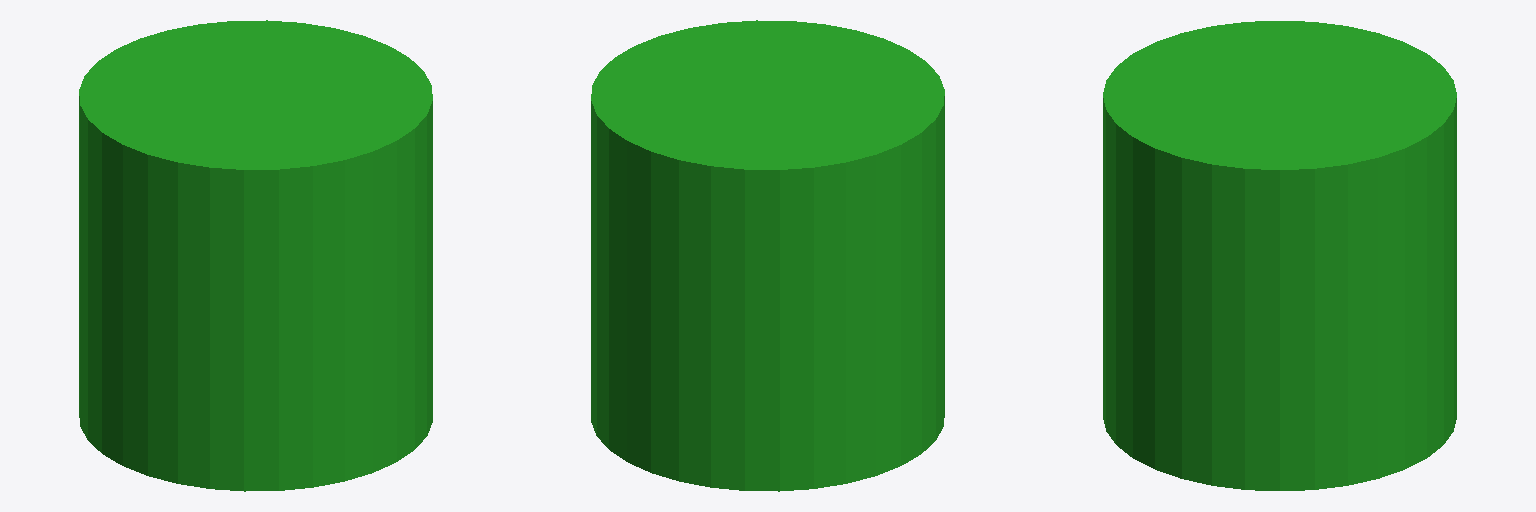
robot.urdf — cylinder:
<robot name="cylinder">
  <!-- Cylinder Link -->
  <link name="link">
    <!-- Inertial properties -->
    <inertial>
      <origin xyz="0 0 0" rpy="0 0 0" />
      <mass value="1.0" />
      <inertia ixx="0.02" iyy="0.02" izz="0.02" ixy="0.0" ixz="0.0" iyz="0.0" />
    </inertial>

    <!-- Visual representation -->
    <visual>
      <origin xyz="0 0 0" rpy="0 0 0" />
      <geometry>
        <cylinder radius="0.05" length="0.1" />
      </geometry>
      <material name="green">
        <color rgba="0.2 0.7 0.2 1" />
      </material>
    </visual>

    <!-- Collision geometry -->
    <collision>
      <origin xyz="0 0 0" rpy="0 0 0" />
      <geometry>
        <cylinder radius="0.05" length="0.1" />
      </geometry>
    </collision>
  </link>
  <gazebo>
    <plugin name="gazebo_ros_state" filename="libgazebo_ros_state.so">
      <ros>
        <namespace>/gazebo</namespace>
      </ros>
    </plugin>
  </gazebo>
</robot>

--- What the picture shows (computed from the rendered views, not written in the file) ---
3 views of the same robot in one strip: view 1: azimuth 30°, elevation 25°; view 2: azimuth 150°, elevation 25°; view 3: azimuth 270°, elevation 25° (orthographic).
Robot: cylinder — 1 links, 0 joints (none); root link link; default pose: every joint at zero.
Visible links, largest first — view 1: link; view 2: link; view 3: link.
Boxes of the visible links, x1,y1,x2,y2 form: link: (79,20,432,491); link: (591,20,944,491); link: (1103,21,1456,490).
Size in the robot's own frame: 0.1 by 0.1 by 0.1 metres.
Geometry: primitives only (box / cylinder / sphere), no mesh files.